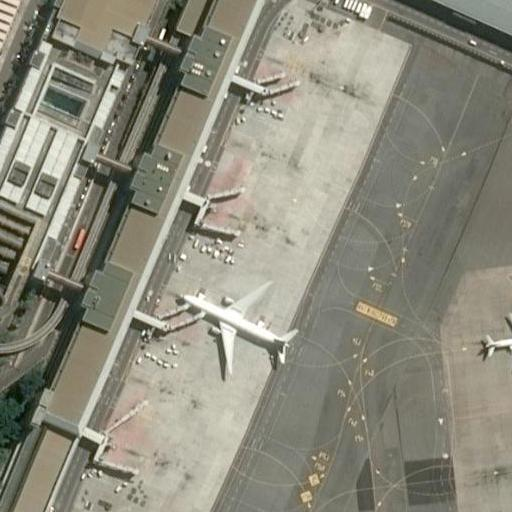Aircraft: (177, 271, 295, 372), (474, 304, 512, 371)
